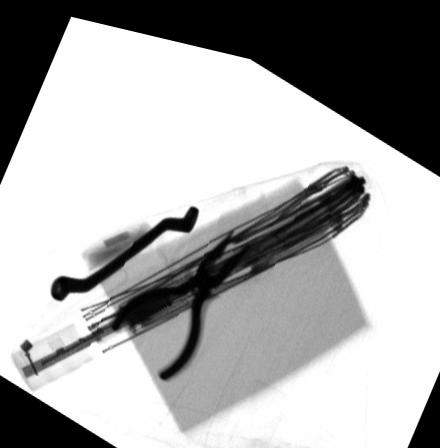Pliers: (108, 214, 255, 373)
Wrench: (46, 195, 198, 302)
